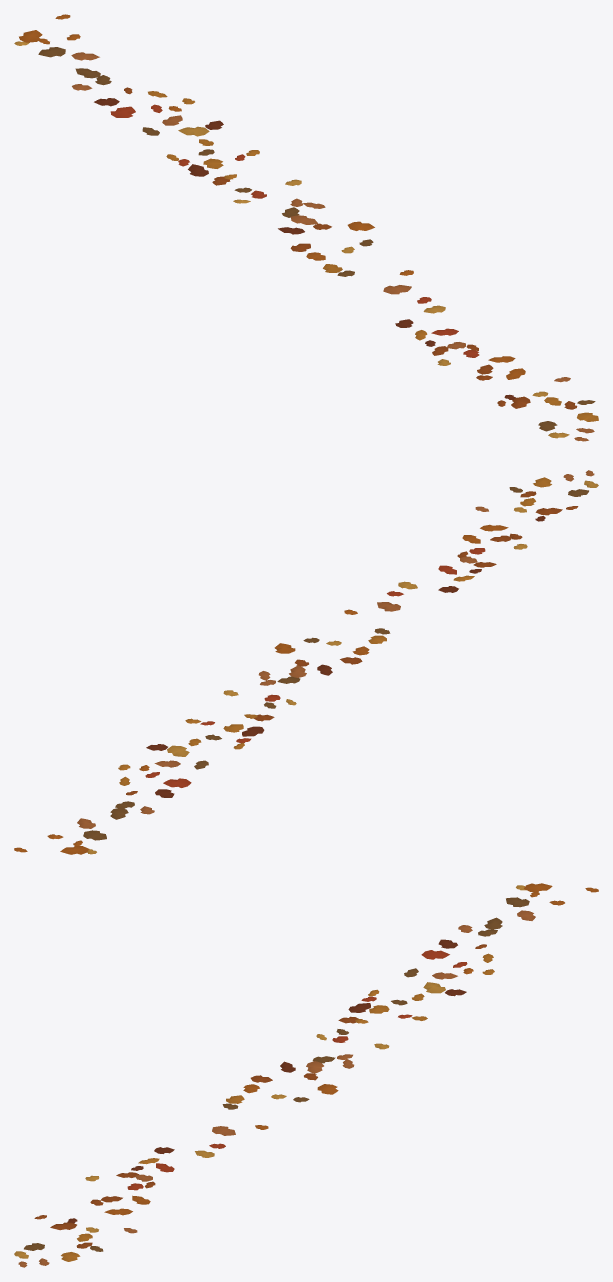
File: w0b-avenue-litter-windrow.glb
3 views of the same model, one above another, from view 1: azimuth 30°, elevation 25°; view 2: azimuth 150°, elevation 25°; view 3: azimuth 330°, elevation 25° (orthographic). The views are drawn at different scales.
Visible parts, largest first — view 1: w0b-avenue-litter-windrow; view 2: w0b-avenue-litter-windrow; view 3: w0b-avenue-litter-windrow.
Boxes of the visible parts, left/top/right/bottom form: w0b-avenue-litter-windrow: left=14, top=14, right=598, bottom=441; w0b-avenue-litter-windrow: left=14, top=470, right=598, bottom=854; w0b-avenue-litter-windrow: left=14, top=883, right=598, bottom=1267.
Bounding box in the file's own units: 0.6591 × 0.057 × 6.46.
